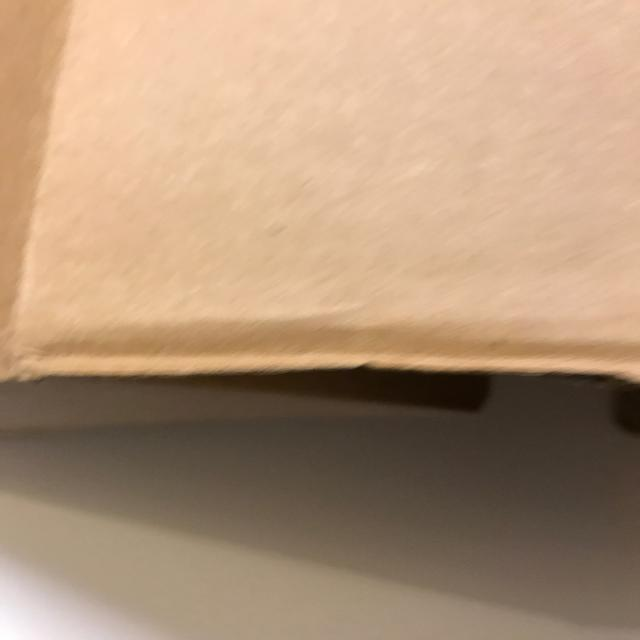cardboard: (0, 5, 640, 479)
